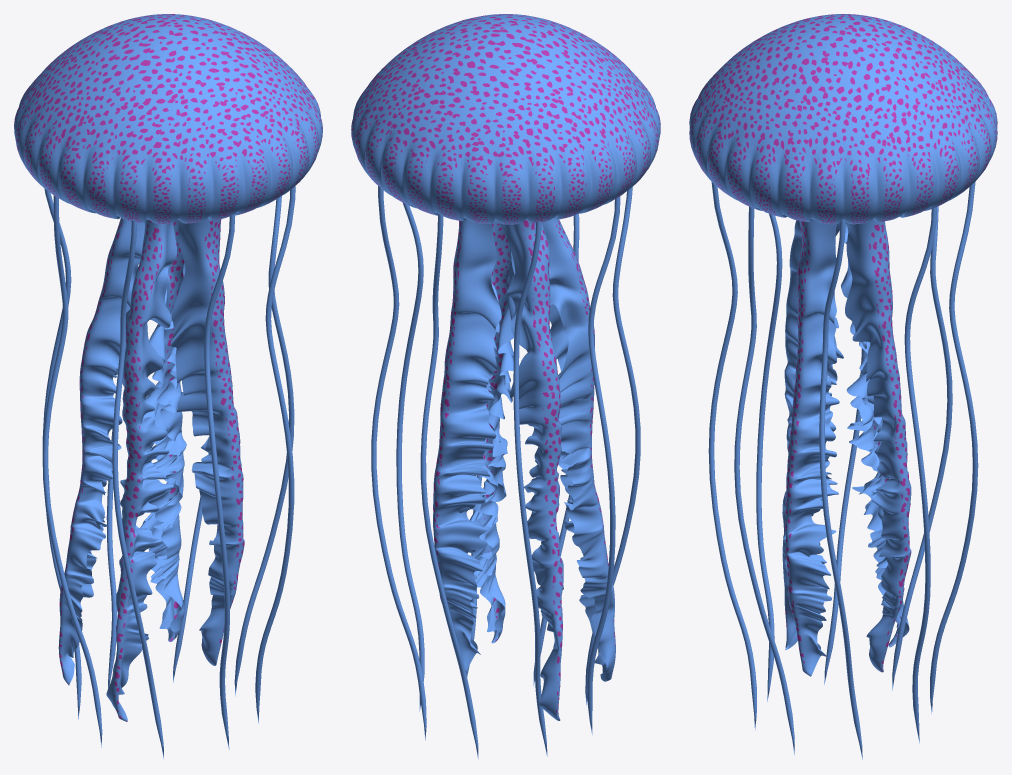
Rendered from jellyfish.glb.
3 renders of one model, left to right at view 1: azimuth 30°, elevation 25°; view 2: azimuth 150°, elevation 25°; view 3: azimuth 270°, elevation 25°, orthographic.
Visible parts, largest first — view 1: Cylinder.001, BezierCurve.001; view 2: Cylinder.001, BezierCurve.001; view 3: Cylinder.001, BezierCurve.001.
Boxes of the visible parts, x1=… form: Cylinder.001: x1=14, y1=14, x2=322, y2=721; BezierCurve.001: x1=42, y1=186, x2=295, y2=758; Cylinder.001: x1=351, y1=14, x2=660, y2=720; BezierCurve.001: x1=371, y1=186, x2=640, y2=759; Cylinder.001: x1=689, y1=14, x2=997, y2=676; BezierCurve.001: x1=708, y1=182, x2=978, y2=759.
Bounding box in the file's own units: 0.9188 × 2.29 × 0.9188.
Materials: 1 (1 with a texture image).
